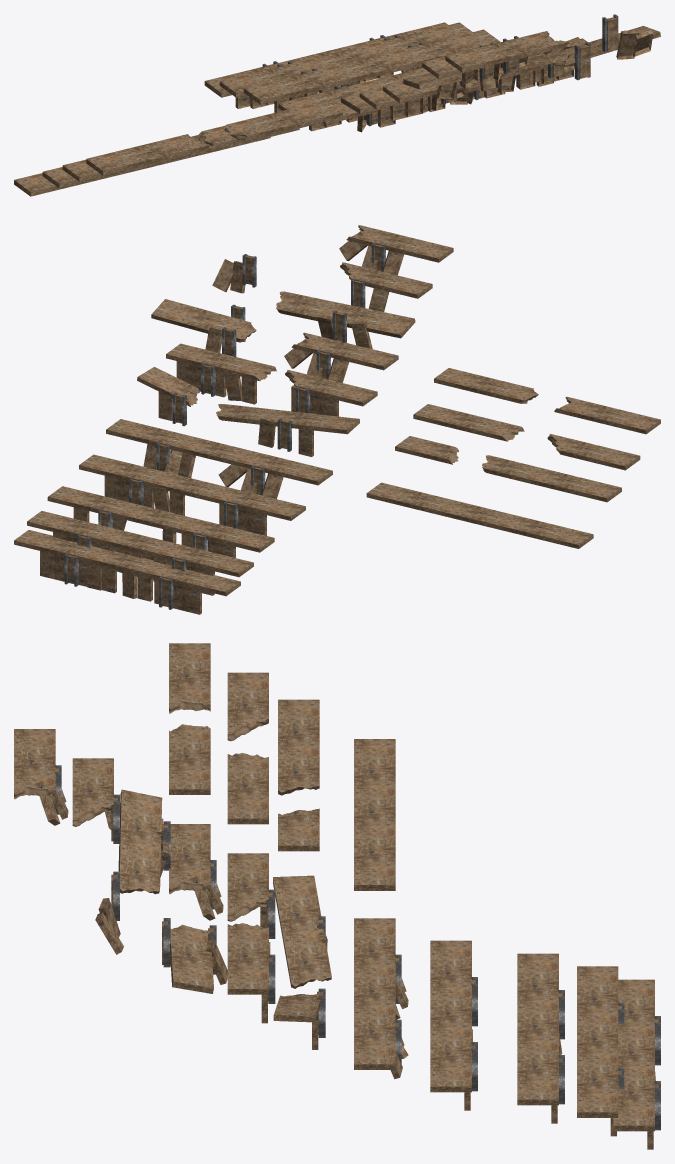
Rendered from Stairs&Planks.FBX.
3 views of the same model, one above another, from view 1: azimuth 30°, elevation 25°; view 2: azimuth 150°, elevation 25°; view 3: azimuth 270°, elevation 25° (orthographic). The views are drawn at different scales.
Parts seen in each view (by area): view 1: Stair_001, Stair_00, Stair_008, Stair_006, Stair_009, WoodPlank_broken04, WoodPlank_broken00, Stair_010, Stair_007, Stair_002, Stair_004, WoodPlank00 (+5 smaller); view 2: Stair_004, Stair_002, Stair_003, Stair_006, Stair_007, Stair_001, Stair_005, Stair_00, WoodPlank00, Stair_010, Stair_009, Stair_008 (+6 smaller); view 3: Stair_003, Stair_001, Stair_002, Stair_007, Stair_00, Stair_006, Stair_005, WoodPlank00, Stair_004, Stair_010, Stair_009, WoodPlank_broken01 (+6 smaller).
Boxes of the visible parts, left/top/right/bottom form: Stair_001: left=243, top=29, right=500, bottom=112; Stair_00: left=219, top=22, right=472, bottom=108; Stair_008: left=445, top=31, right=568, bottom=79; Stair_006: left=359, top=38, right=587, bottom=120; Stair_009: left=422, top=14, right=653, bottom=88; WoodPlank_broken04: left=224, top=100, right=342, bottom=140; WoodPlank_broken00: left=86, top=134, right=209, bottom=175; Stair_010: left=403, top=42, right=590, bottom=98; Stair_007: left=383, top=26, right=660, bottom=110; Stair_002: left=278, top=68, right=429, bottom=131; Stair_004: left=204, top=22, right=447, bottom=108; WoodPlank00: left=14, top=135, right=270, bottom=196; Stair_004: left=14, top=530, right=240, bottom=614; Stair_002: left=79, top=454, right=305, bottom=535; Stair_003: left=106, top=419, right=332, bottom=498; Stair_006: left=166, top=343, right=377, bottom=416; Stair_007: left=151, top=299, right=398, bottom=382; Stair_001: left=47, top=486, right=274, bottom=557; Stair_005: left=137, top=367, right=359, bottom=456; Stair_00: left=27, top=511, right=253, bottom=595; WoodPlank00: left=366, top=482, right=593, bottom=548; Stair_010: left=231, top=291, right=415, bottom=348; Stair_009: left=212, top=254, right=432, bottom=311; Stair_008: left=339, top=225, right=453, bottom=275; Stair_003: left=354, top=918, right=408, bottom=1079; Stair_001: left=517, top=953, right=564, bottom=1123; Stair_002: left=430, top=940, right=477, bottom=1110; Stair_007: left=169, top=824, right=227, bottom=993; Stair_00: left=577, top=966, right=624, bottom=1136; Stair_006: left=227, top=853, right=275, bottom=1023; Stair_005: left=273, top=875, right=331, bottom=1049; WoodPlank00: left=354, top=739, right=395, bottom=890; Stair_004: left=613, top=979, right=660, bottom=1149; Stair_010: left=118, top=789, right=170, bottom=967; Stair_009: left=72, top=758, right=123, bottom=954; WoodPlank_broken01: left=278, top=699, right=319, bottom=795.
Size of the model in its own units: 351 by 143 by 282.
